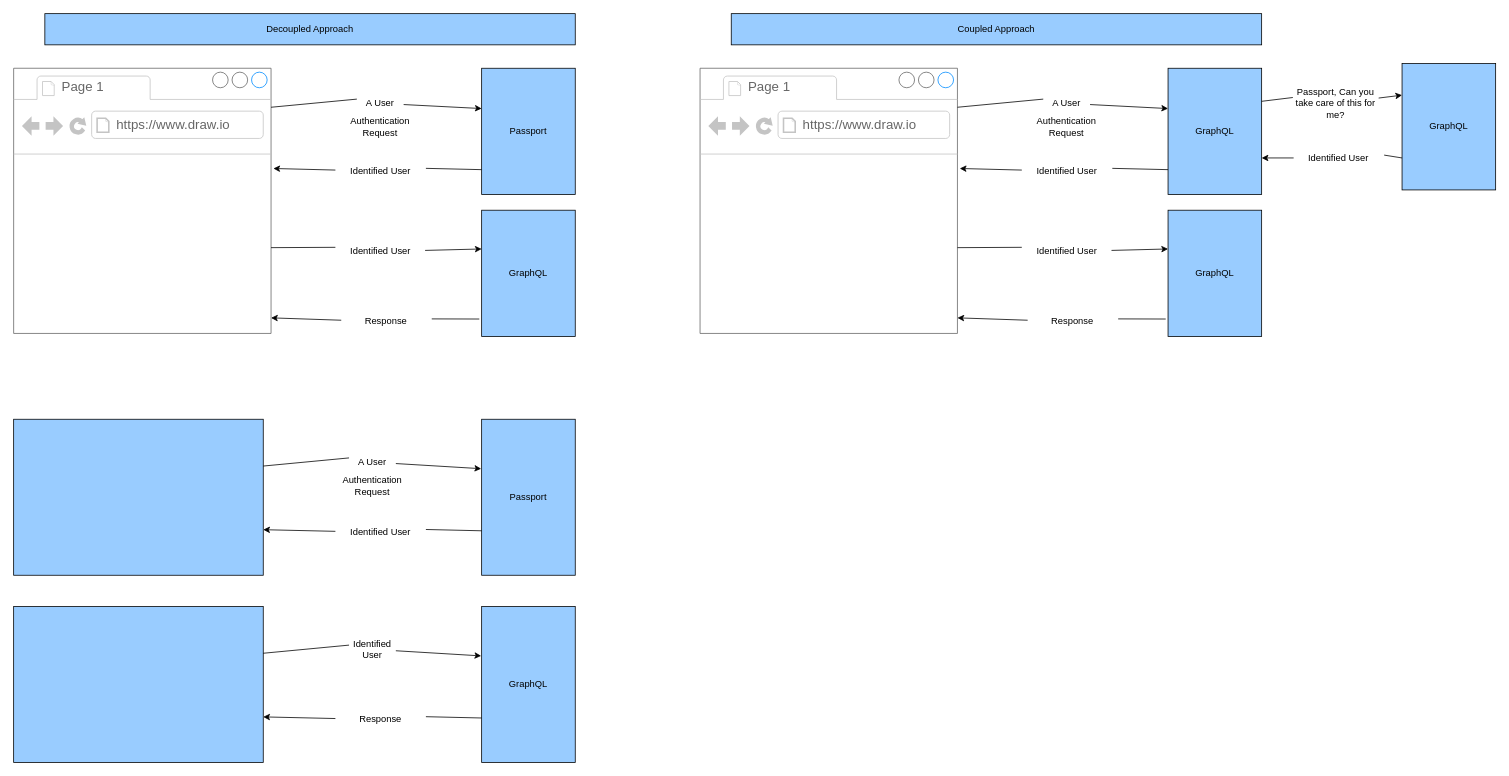
Some shapes in this 1509 by 776 pixel diagram are drawn without their labels. The shapes that lost their labels are listed below. From the top down, each one's centre as x and y in pixels, then its label:
At (x=138, y=496): "Part of React app that doesn't use GraphQL".
At (x=138, y=684): "Part of React app that does use GraphQL".
